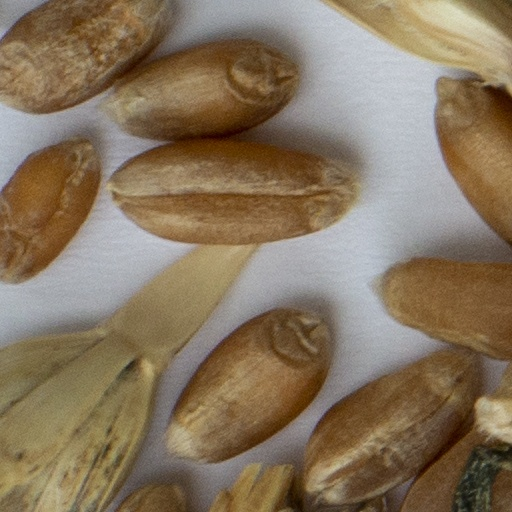Peel-poly: (323, 0, 511, 91)
